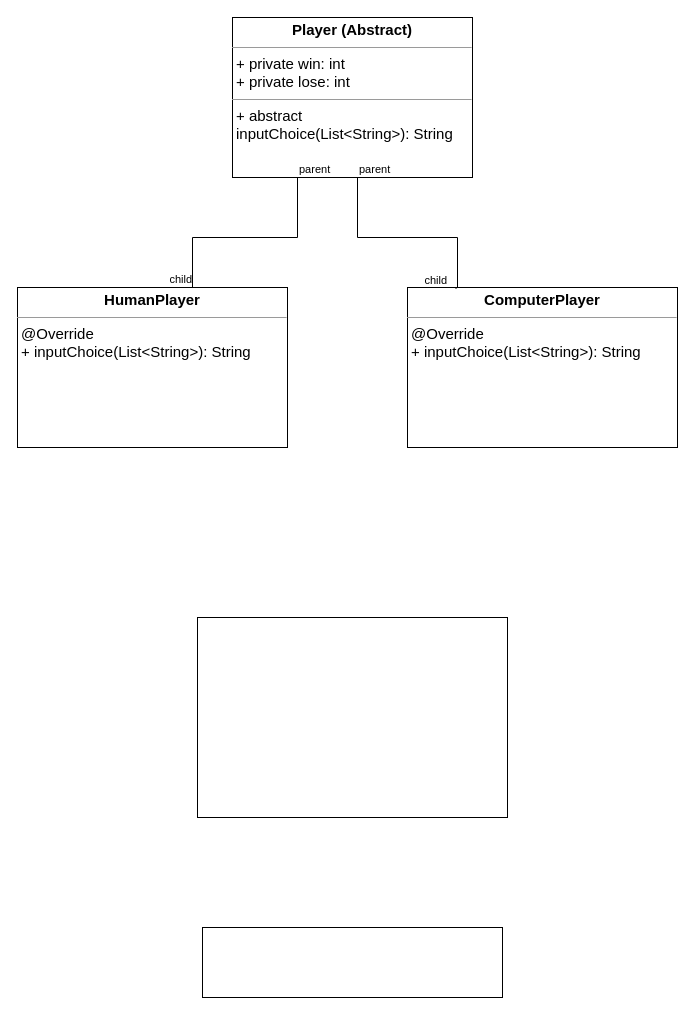
This 695x1015 diagram has some shape labels left out. Each missing label, with the box of its shape:
Game + main(): Void: (202, 926, 502, 998)
Menu + field: Type + mainMenu(): Void + playMenu(): Void: (196, 616, 508, 818)
